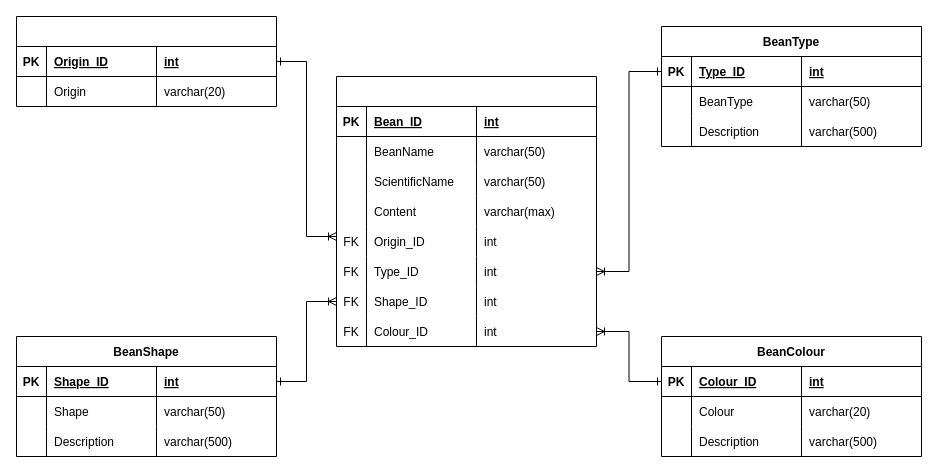
Image size: 938x473. Some labels were removed from this diagram. The shapes that lost their labels are listed below. From the top down, each one's box as (x1, y1, x2, y2) in pixels, then its label:
(16, 16, 276, 106): BeanOrigin
(336, 76, 596, 346): BasicBeanInformation
